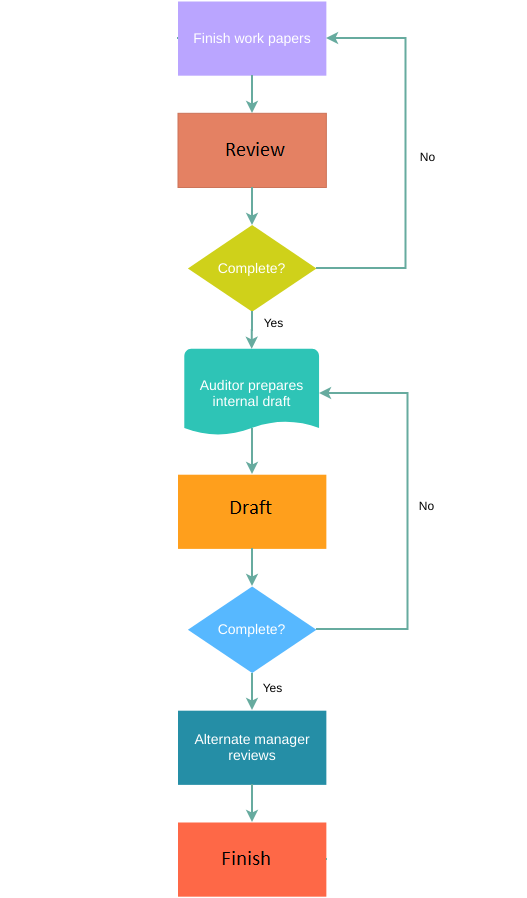arrow: (311, 383, 414, 635), (317, 30, 411, 273), (243, 672, 261, 708), (244, 73, 261, 109), (246, 430, 259, 475), (246, 310, 259, 350), (246, 549, 259, 589), (246, 787, 259, 823), (246, 187, 257, 224)
decision: (187, 586, 315, 672), (189, 226, 315, 312)
process: (173, 110, 332, 193), (176, 706, 332, 789), (178, 346, 324, 434), (174, 472, 329, 553), (176, 819, 330, 898), (172, 1, 332, 76)
text: (191, 731, 311, 764), (195, 378, 306, 408), (188, 27, 315, 49), (214, 258, 291, 279), (215, 619, 284, 641), (220, 139, 287, 161), (218, 847, 270, 869), (225, 498, 274, 520), (255, 678, 288, 697), (257, 316, 291, 330), (414, 147, 440, 164), (413, 498, 436, 516)
